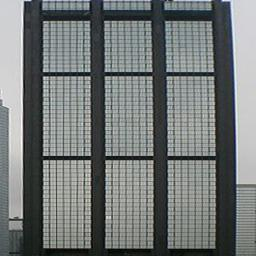building: (19, 0, 236, 256)
